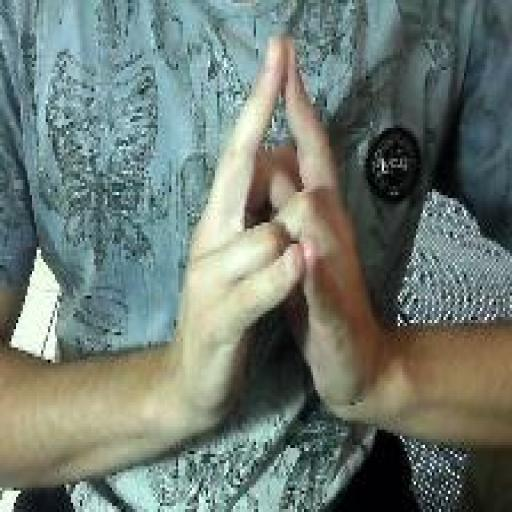Tori -bird-: (170, 32, 378, 434)
